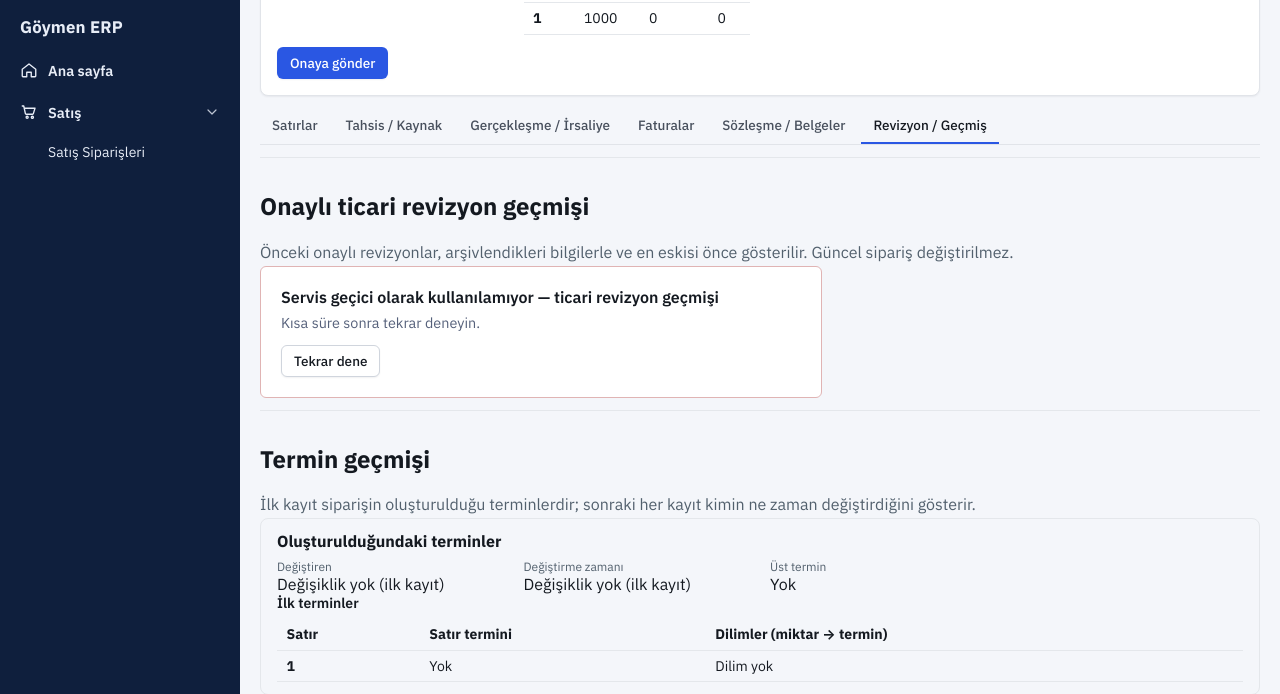
Test case: SalesDraftRevisionHistory in the detail › retries 503 at the same read URL without changing the draft
(page scrolled)
Click the button "Tekrar dene".
click(331, 361)  # box left=281, top=345, right=380, bottom=377
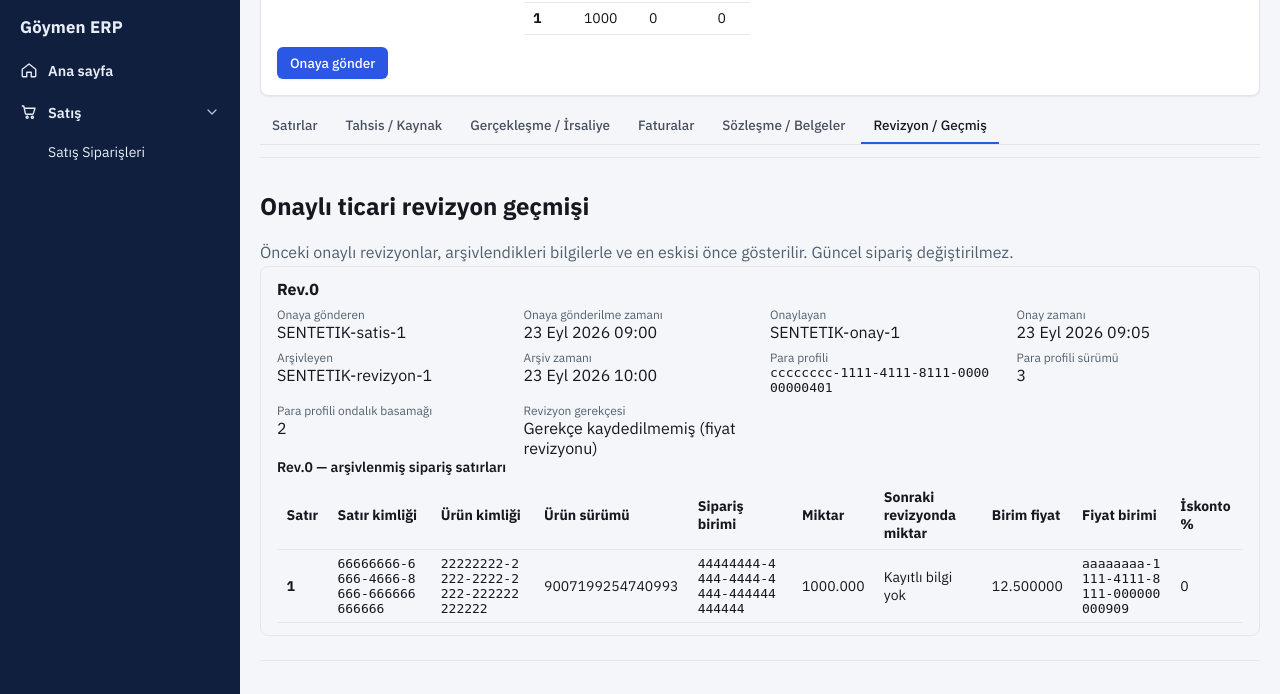
Expected: the element with test id "sales-revision-Rev.0" is shown, left=260, top=266, right=1260, bottom=636
